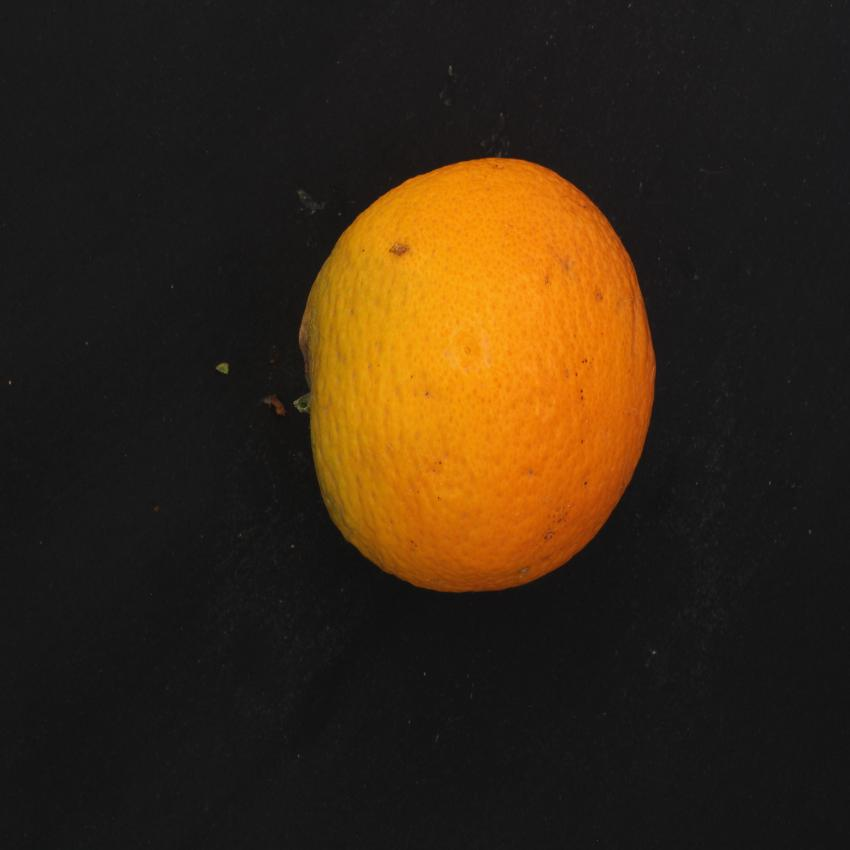Buen estado: (268, 149, 664, 611)
